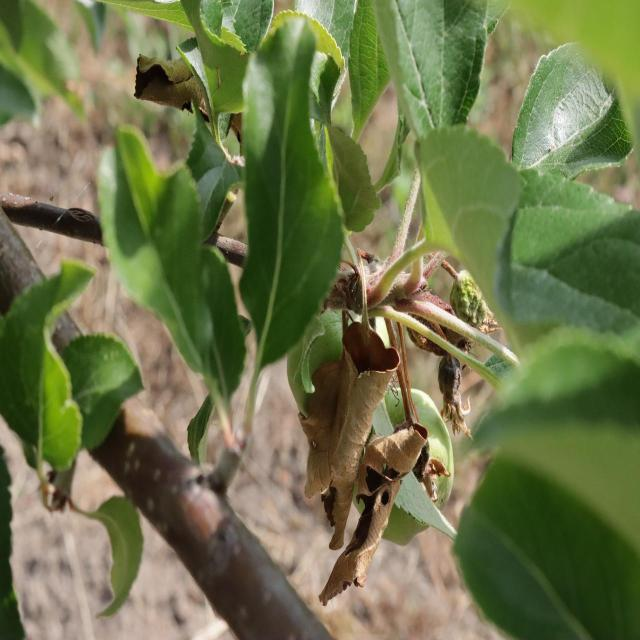-FireBlight-: (323, 319, 397, 613), (406, 251, 480, 435)
